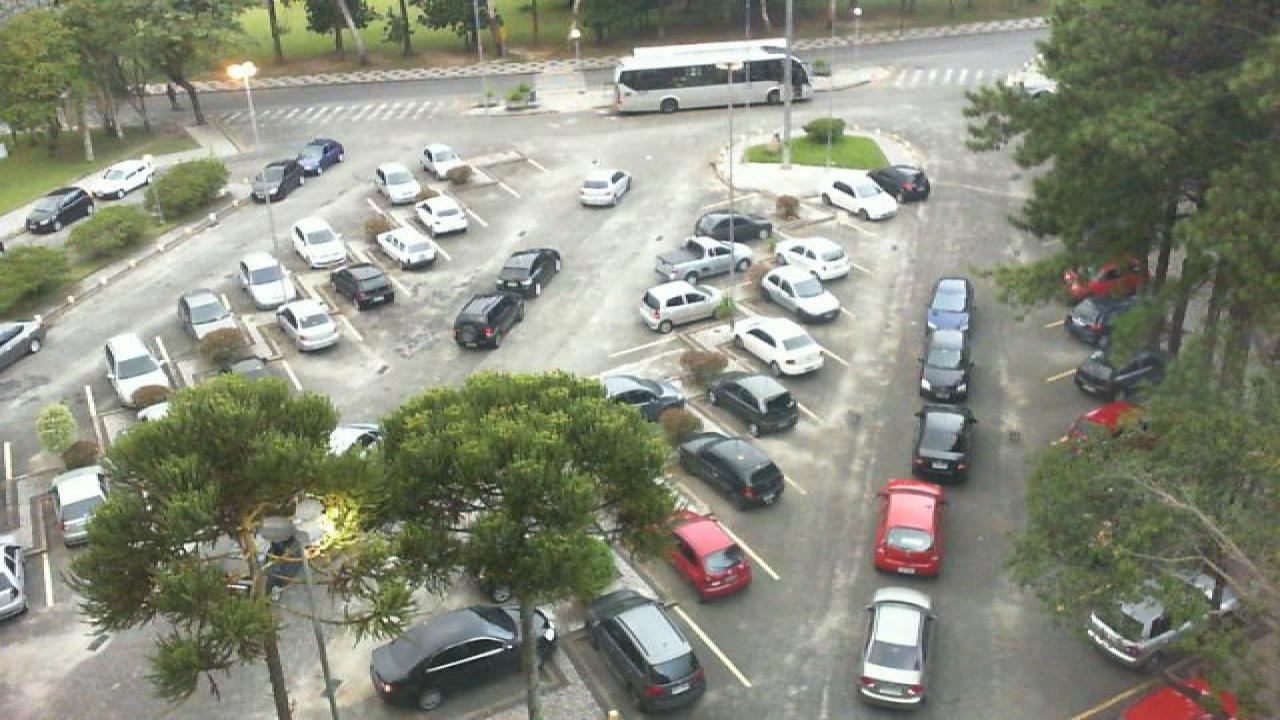Car: (368, 603, 562, 709), (584, 592, 708, 712), (1076, 566, 1182, 664), (640, 508, 752, 598), (858, 586, 934, 707), (678, 432, 786, 508), (872, 478, 944, 575), (710, 373, 804, 434), (734, 316, 826, 376), (910, 405, 976, 485), (102, 332, 174, 404), (1074, 347, 1168, 400), (52, 465, 112, 546), (758, 267, 840, 323), (452, 290, 528, 350), (596, 372, 684, 423), (638, 282, 726, 332), (654, 238, 752, 282), (918, 327, 972, 403), (770, 236, 848, 284), (178, 290, 240, 348), (494, 246, 562, 298), (820, 176, 898, 221), (276, 300, 342, 352), (24, 187, 96, 234), (1062, 259, 1146, 299), (238, 253, 298, 307), (292, 215, 350, 269), (332, 264, 396, 312), (1066, 298, 1122, 349), (376, 224, 438, 270), (92, 156, 156, 200), (694, 212, 774, 244), (252, 158, 306, 204), (926, 277, 972, 331), (868, 163, 930, 203), (412, 196, 470, 236), (580, 167, 632, 207), (374, 162, 422, 205), (296, 137, 346, 177), (420, 144, 466, 179)
